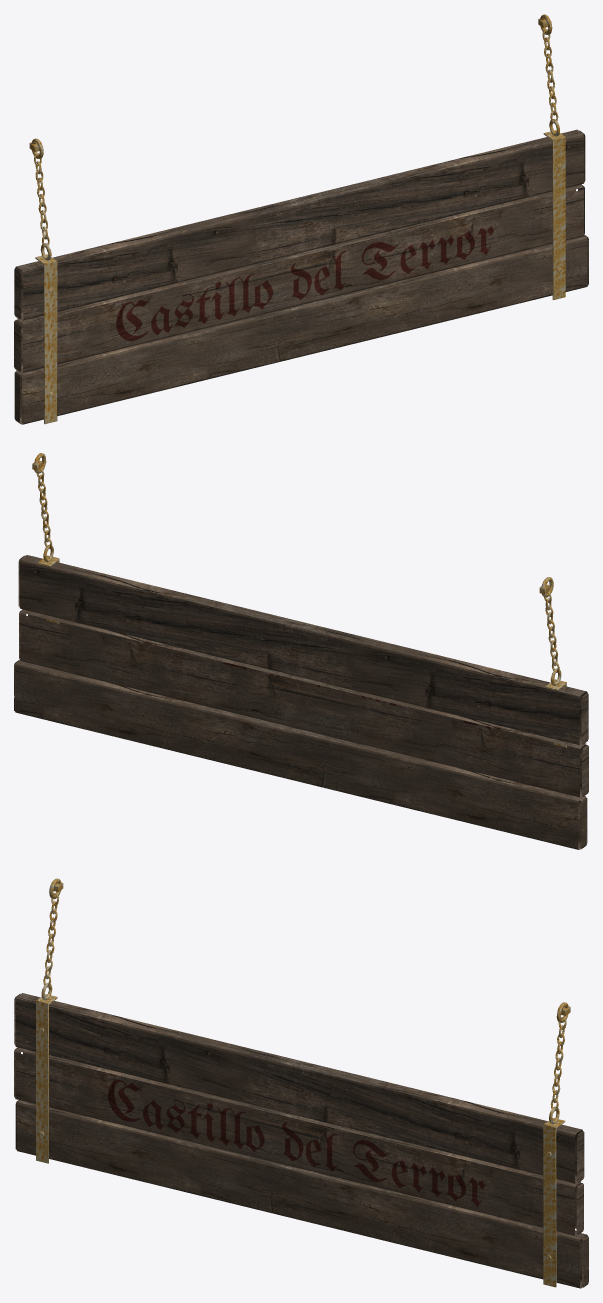
Rendered from gate_sign.glb.
3 views of the same model, one above another, from view 1: azimuth 30°, elevation 25°; view 2: azimuth 150°, elevation 25°; view 3: azimuth 330°, elevation 25° (orthographic).
Visible parts, largest first — view 1: board, sign_iron; view 2: board, sign_iron; view 3: board, sign_iron.
Boxes of the visible parts, box(x1,y1,x2,y2) form: board: box(14, 129, 588, 424); sign_iron: box(29, 14, 565, 424); board: box(14, 555, 588, 849); sign_iron: box(32, 453, 566, 747); board: box(14, 993, 588, 1288); sign_iron: box(36, 878, 570, 1287).
Bounding box in the file's own units: 3.11 × 1.43 × 0.1841.
Materials: 2 (2 with a texture image).
